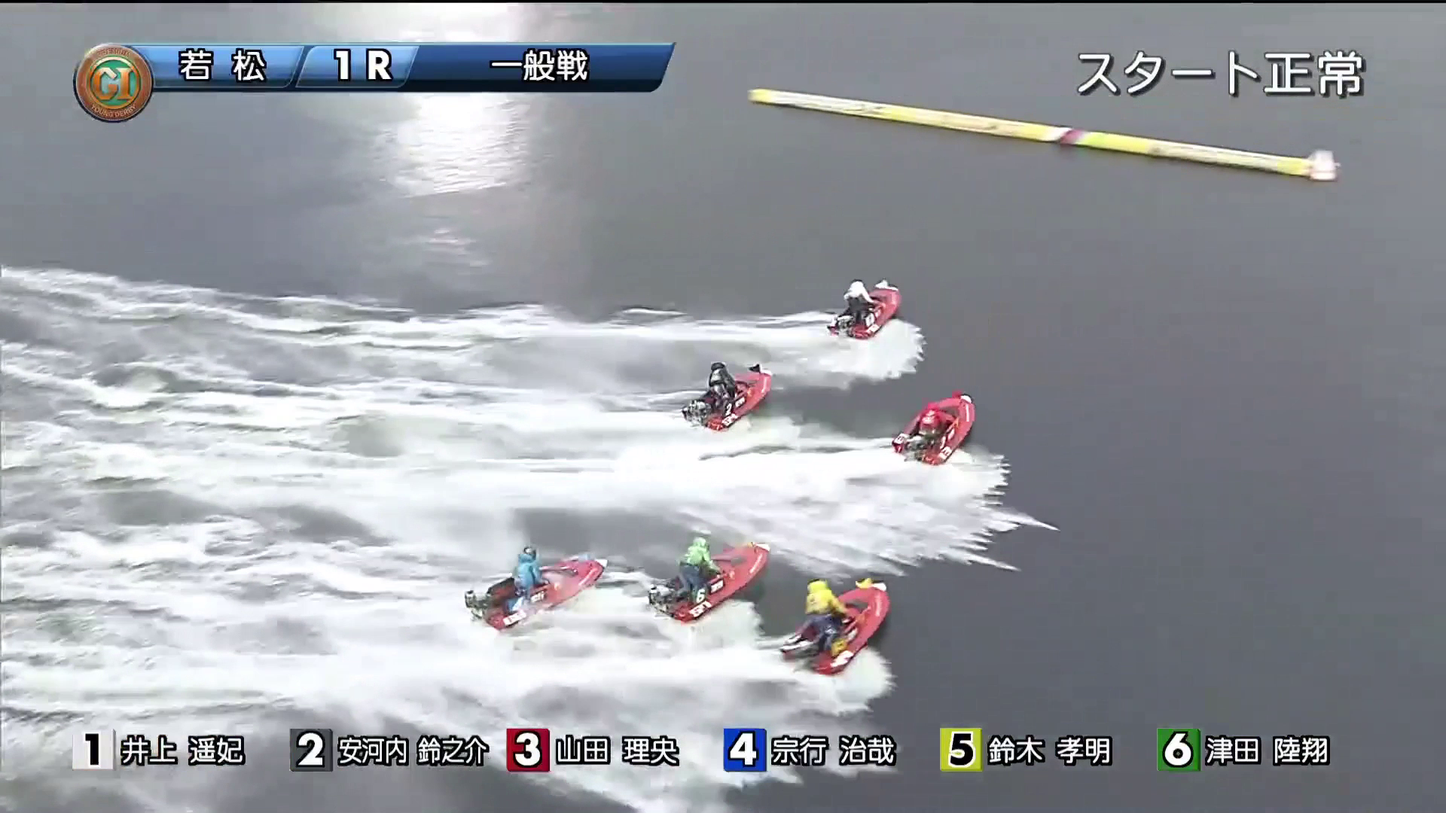１号艇: (820, 281, 957, 335)
２号艇: (664, 354, 793, 414)
３号艇: (894, 406, 1034, 453)
４号艇: (633, 542, 767, 607)
５号艇: (447, 552, 571, 607)
６号艇: (793, 585, 892, 642)
